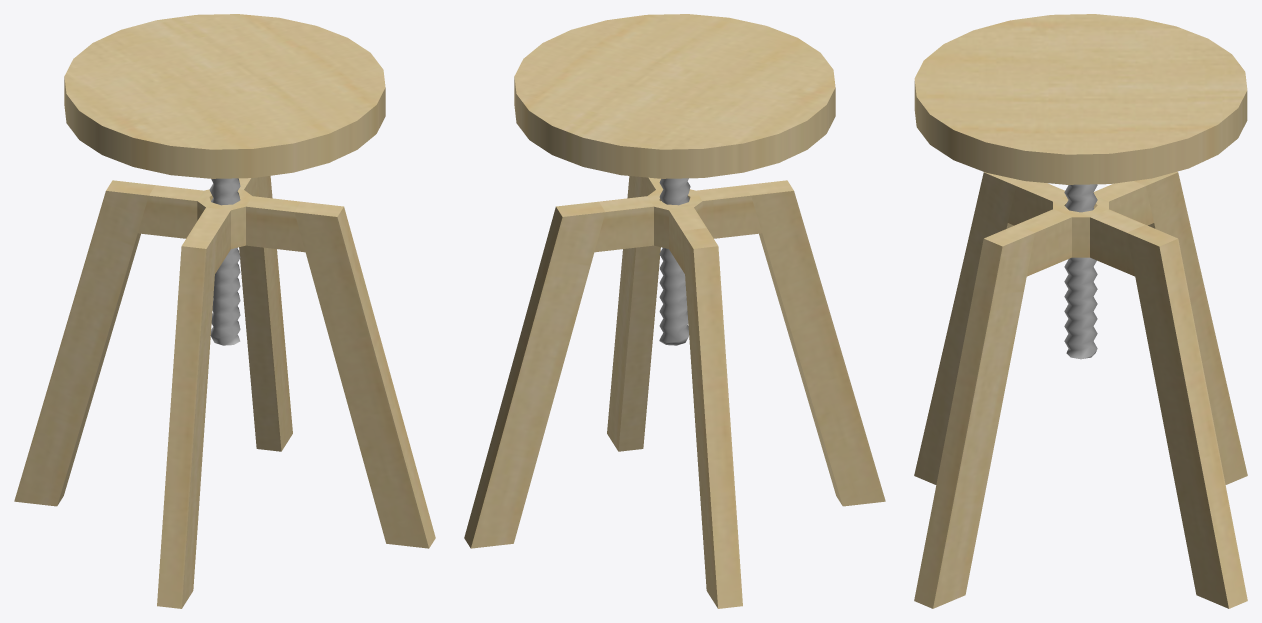
Rendered from stool_small.obj.
3 views of the same model, side by side, from view 1: azimuth 30°, elevation 25°; view 2: azimuth 150°, elevation 25°; view 3: azimuth 270°, elevation 25° (orthographic). The views are drawn at different scales.
Visible parts, largest first — view 1: base_1, sweethome3d_opening_on_rail_1_seat_4, sweethome3d_opening_on_rail_1_twist_3; view 2: base_1, sweethome3d_opening_on_rail_1_seat_4, sweethome3d_opening_on_rail_1_twist_3; view 3: base_1, sweethome3d_opening_on_rail_1_seat_4, sweethome3d_opening_on_rail_1_twist_3.
Boxes of the visible parts, x1,y1,x2,y2 form: base_1: (14,175,435,608); sweethome3d_opening_on_rail_1_seat_4: (64,14,385,178); sweethome3d_opening_on_rail_1_twist_3: (209,178,240,345); base_1: (464,176,885,608); sweethome3d_opening_on_rail_1_seat_4: (514,14,835,178); sweethome3d_opening_on_rail_1_twist_3: (659,178,690,345); base_1: (914,172,1247,608); sweethome3d_opening_on_rail_1_seat_4: (914,14,1247,184); sweethome3d_opening_on_rail_1_twist_3: (1064,184,1097,359).
Bounding box in the file's own units: 29.98 × 45 × 29.98.
